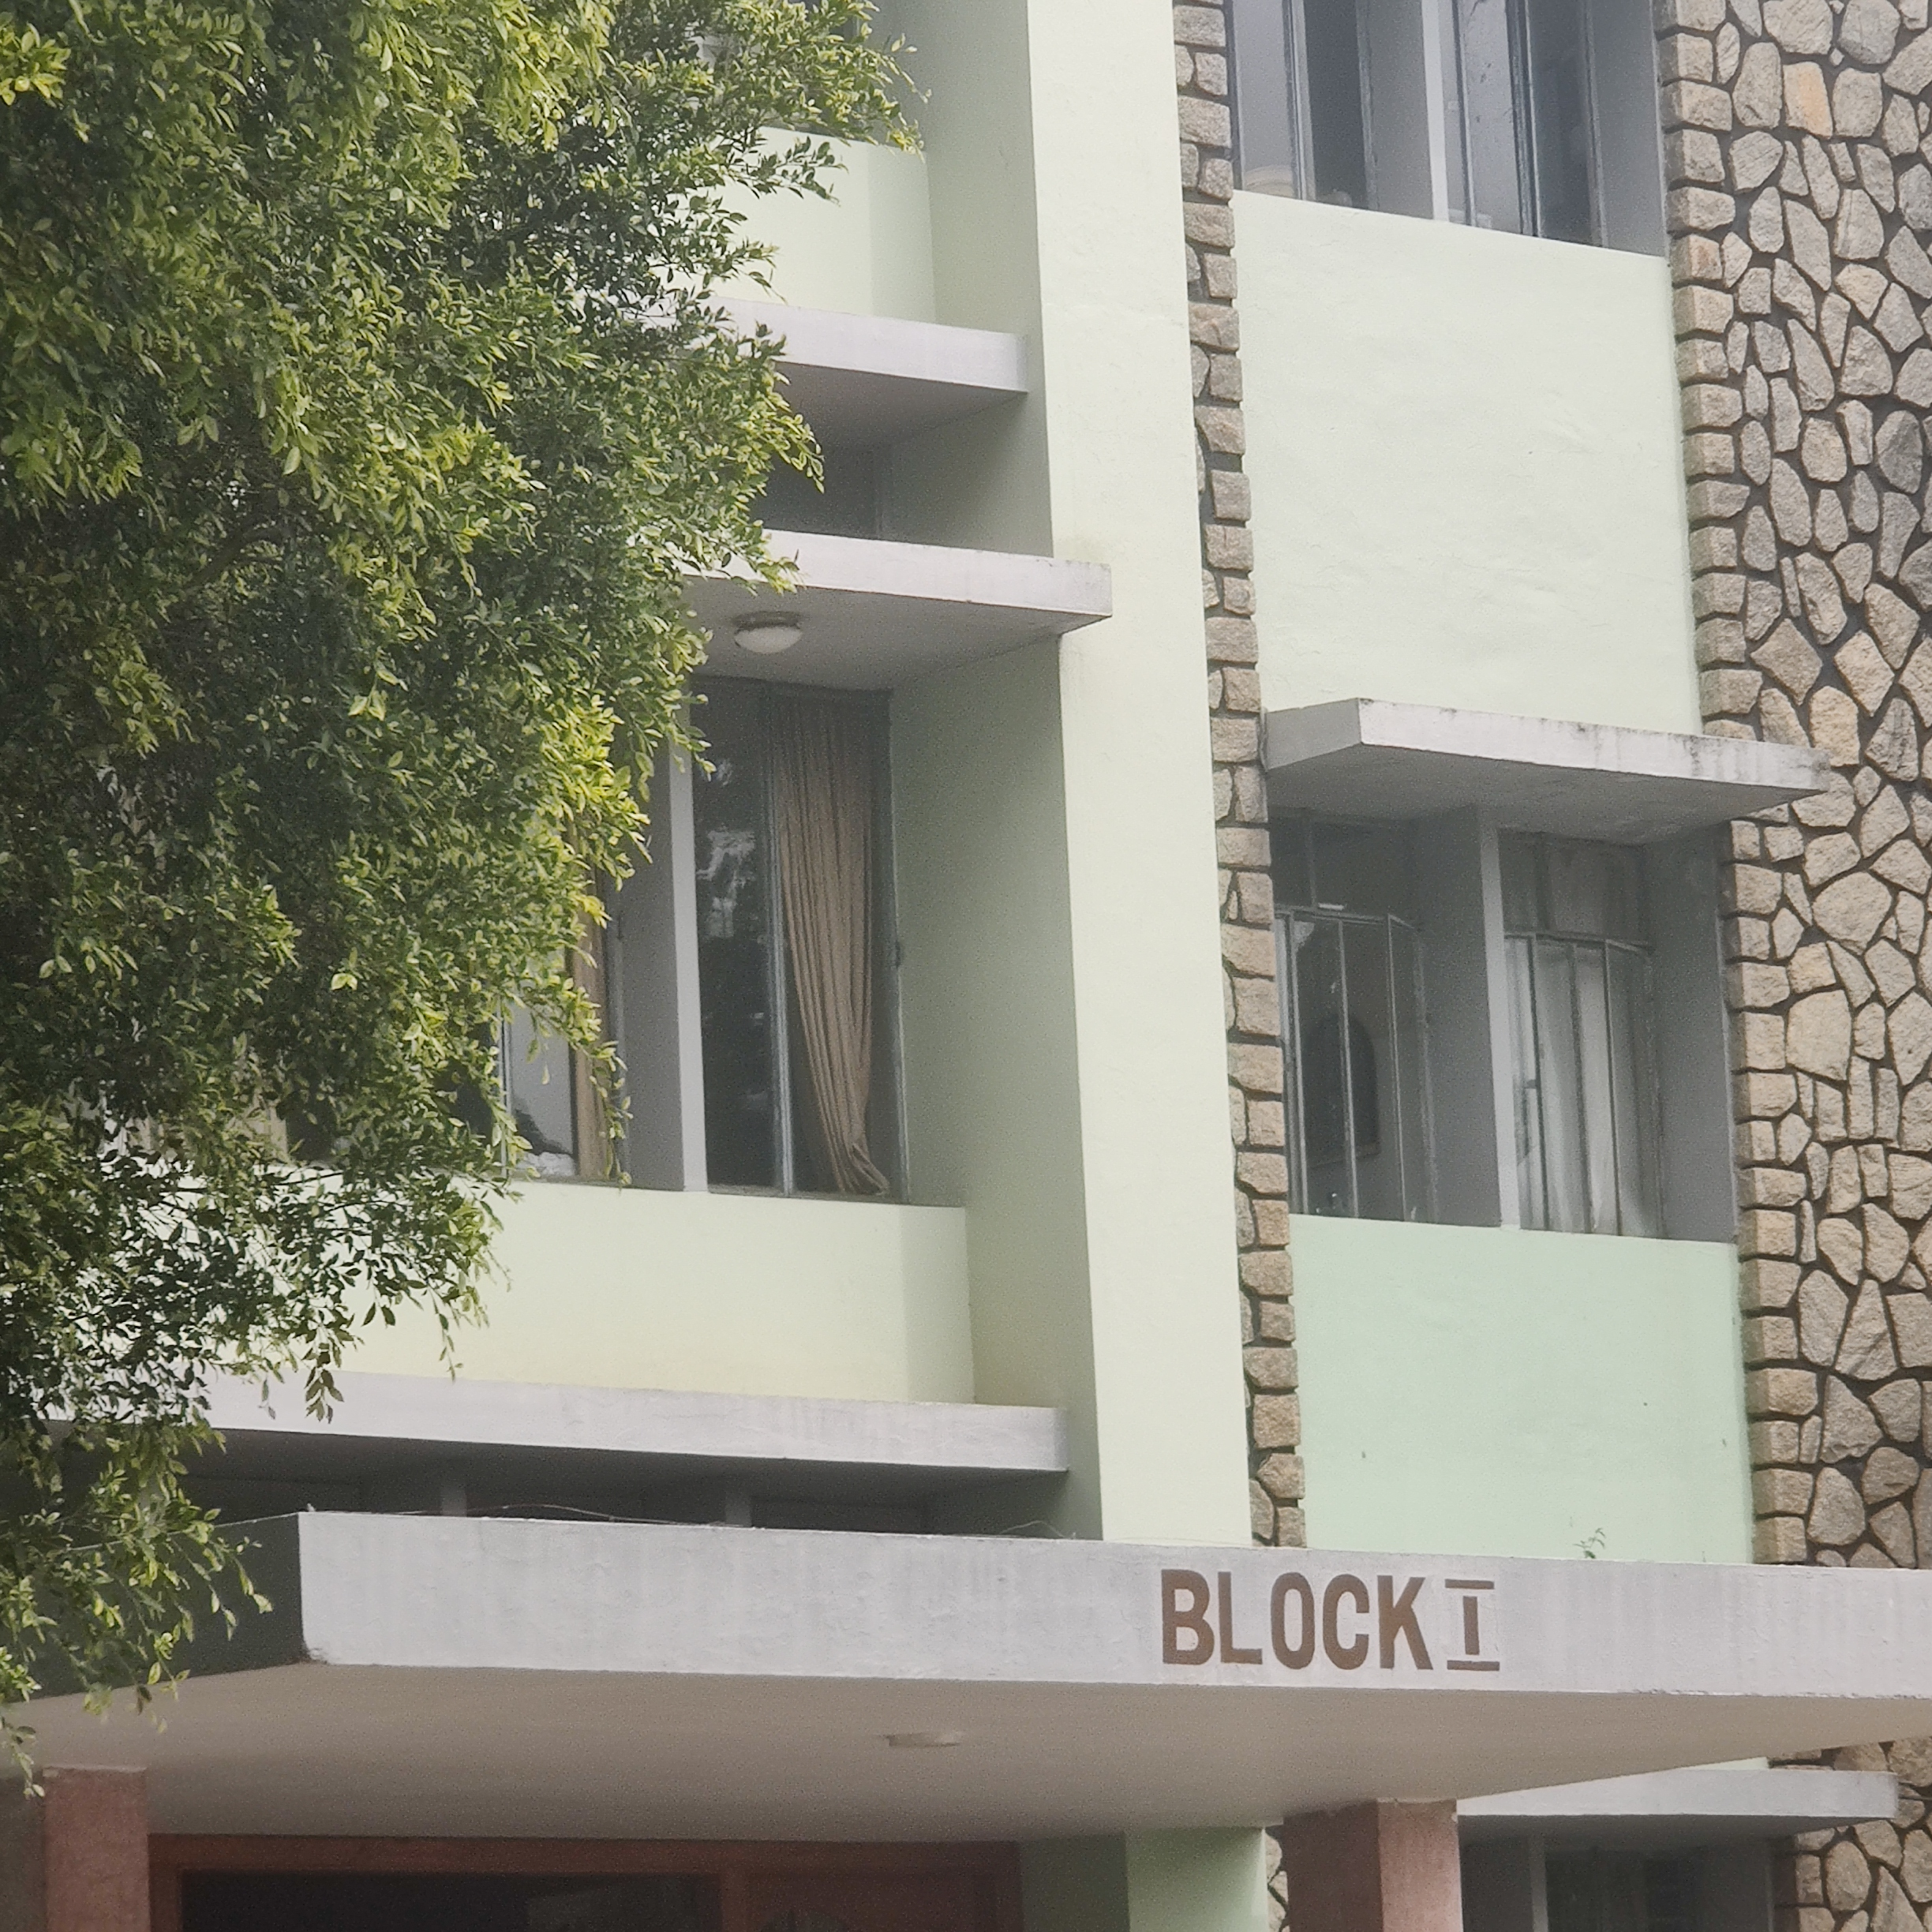Block 1: (439, 0, 1907, 1925)
